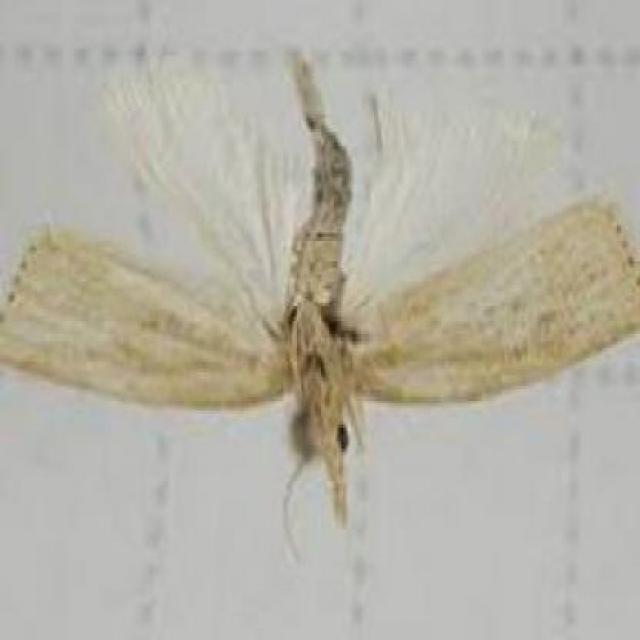stem-borer: (0, 74, 640, 515)
